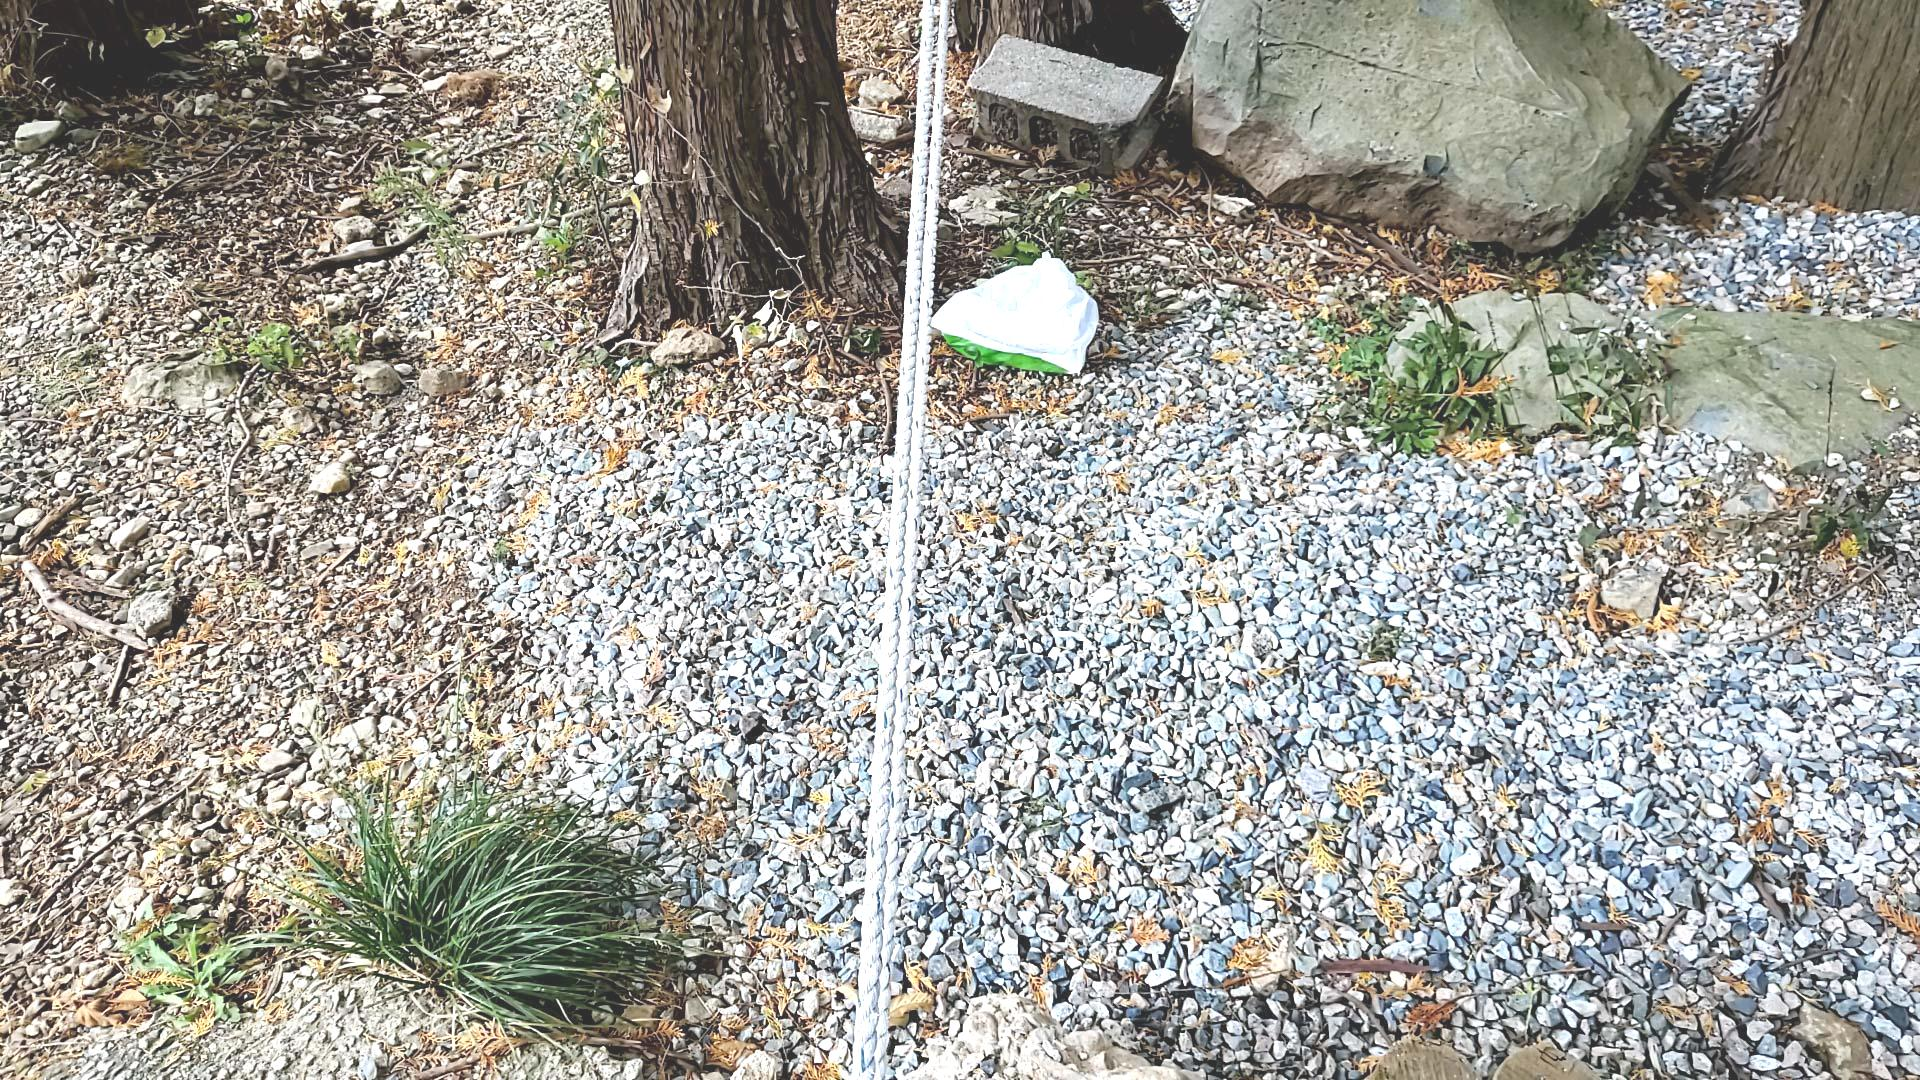white_bag: (926, 247, 1105, 382)
